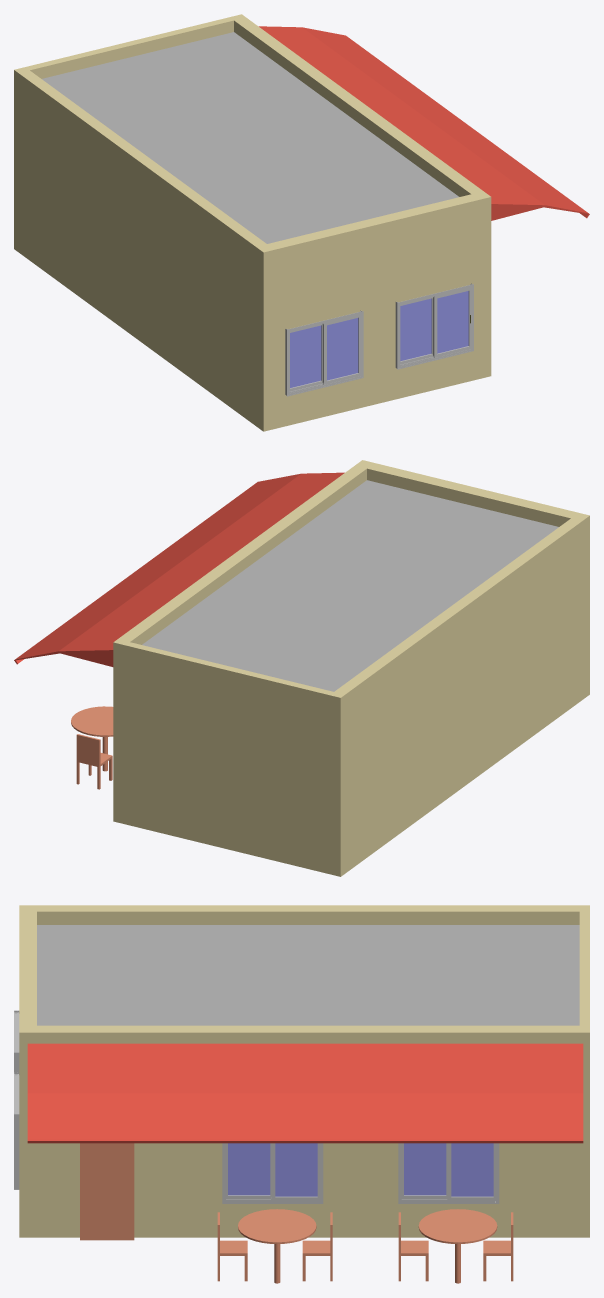
The model's file is restaurant.fbx.
The picture shows the model from 3 angles, top to bottom: view 1: azimuth 30°, elevation 25°; view 2: azimuth 150°, elevation 25°; view 3: azimuth 270°, elevation 25°; orthographic projection. The views are drawn at different scales.
Parts seen in each view (by area): view 1: Cube, Cube.002, Cube.001, Window.R.001, Window.R, Window.L.001, Window.L, WindowFrame, WindowFrame.001; view 2: Cube, Cube.002, Cube.001, Cylinder.002; view 3: Cube, Cube.001, Cube.002, CTRL_Hole, Cylinder.001, Cylinder.002, Window.R.002, Window.R.003, Window.L.003, Window.L.002, WindowFrame.003, WindowFrame.002 (+1 smaller).
Part boxes in pixels (left/top/right/bottom): Cube: left=14, top=14, right=491, bottom=431; Cube.002: left=42, top=32, right=458, bottom=243; Cube.001: left=259, top=26, right=589, bottom=220; Window.R.001: left=322, top=314, right=360, bottom=384; Window.R: left=433, top=287, right=471, bottom=357; Window.L.001: left=289, top=323, right=322, bottom=391; Window.L: left=400, top=296, right=432, bottom=364; WindowFrame: left=395, top=283, right=473, bottom=369; WindowFrame.001: left=285, top=310, right=363, bottom=396; Cube: left=113, top=460, right=589, bottom=876; Cube.002: left=142, top=480, right=558, bottom=691; Cube.001: left=14, top=472, right=344, bottom=666; Cylinder.002: left=71, top=706, right=113, bottom=789; Cube: left=19, top=905, right=589, bottom=1237; Cube.001: left=27, top=1043, right=583, bottom=1143; Cube.002: left=37, top=925, right=579, bottom=1025; CTRL_Hole: left=80, top=1143, right=134, bottom=1240; Cylinder.001: left=217, top=1209, right=332, bottom=1283; Cylinder.002: left=398, top=1209, right=513, bottom=1283; Window.R.002: left=271, top=1143, right=319, bottom=1200; Window.R.003: left=447, top=1143, right=495, bottom=1200; Window.L.003: left=401, top=1143, right=447, bottom=1198; Window.L.002: left=226, top=1143, right=271, bottom=1198; WindowFrame.003: left=398, top=1143, right=499, bottom=1203; WindowFrame.002: left=222, top=1143, right=323, bottom=1203.
Size of the model in its own units: 145 by 78.16 by 192.
